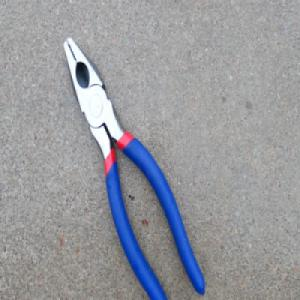Pliers: (63, 35, 205, 300)
